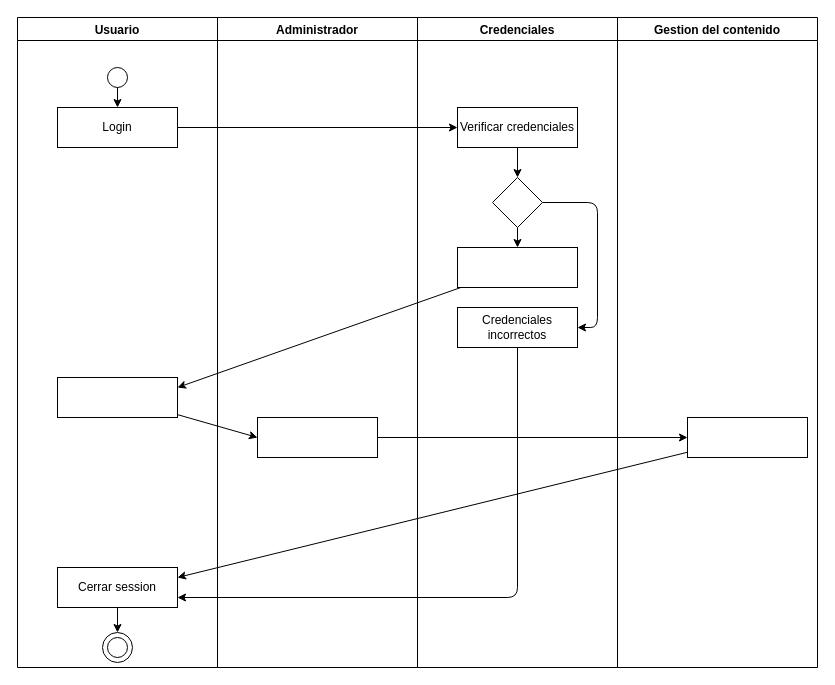
The diagram is 835 pixels wide and 685 high, and some of its shapes have lost their labels. Each missing label, with the centre of its shape:
"Credenciales correctos" goes at (x=517, y=267).
"Enviar post" goes at (x=117, y=397).
"Moderar contenido" goes at (x=317, y=437).
"Publicar post" goes at (x=747, y=437).
